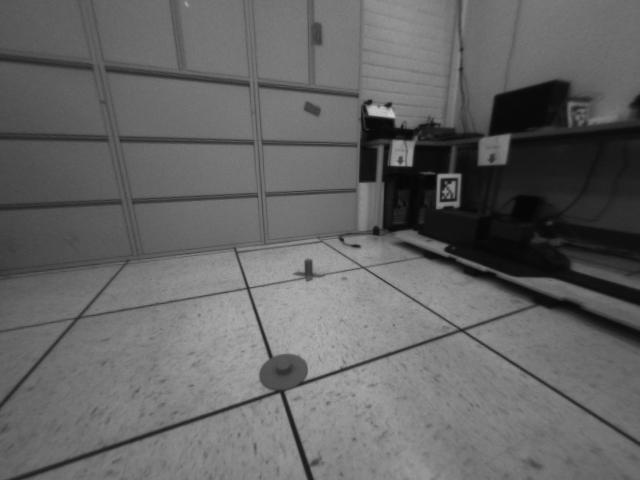X: (292, 259, 325, 282)
